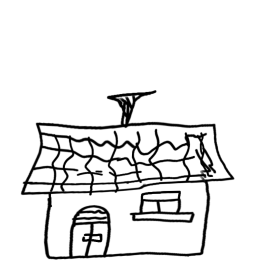bottom_placed_house: (2, 1, 259, 260)
chimney: (97, 72, 160, 141)
closed_window: (126, 174, 197, 230)
door: (62, 201, 119, 260)
roof: (8, 119, 254, 197)
wall: (43, 175, 215, 260)
